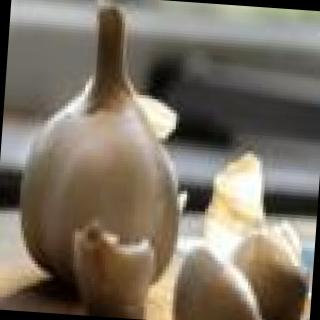Bawang Putih: (1, 1, 216, 301)
